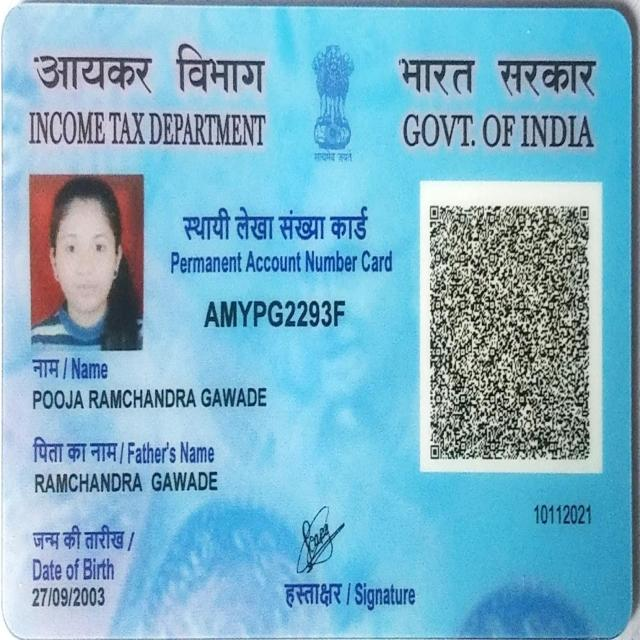pan_card: (2, 9, 632, 633)
